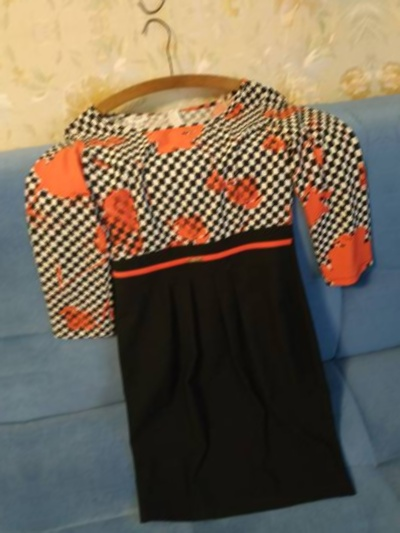Dress: (4, 40, 400, 533), (379, 0, 400, 499), (0, 99, 15, 533), (75, 530, 400, 533)
